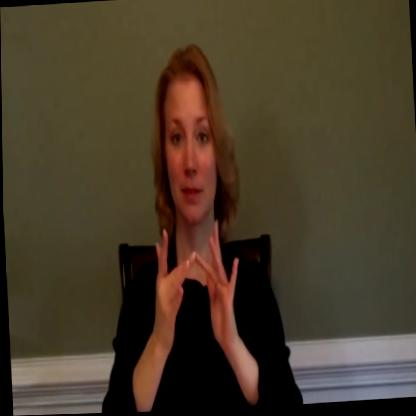Internet: (148, 215, 253, 362)
